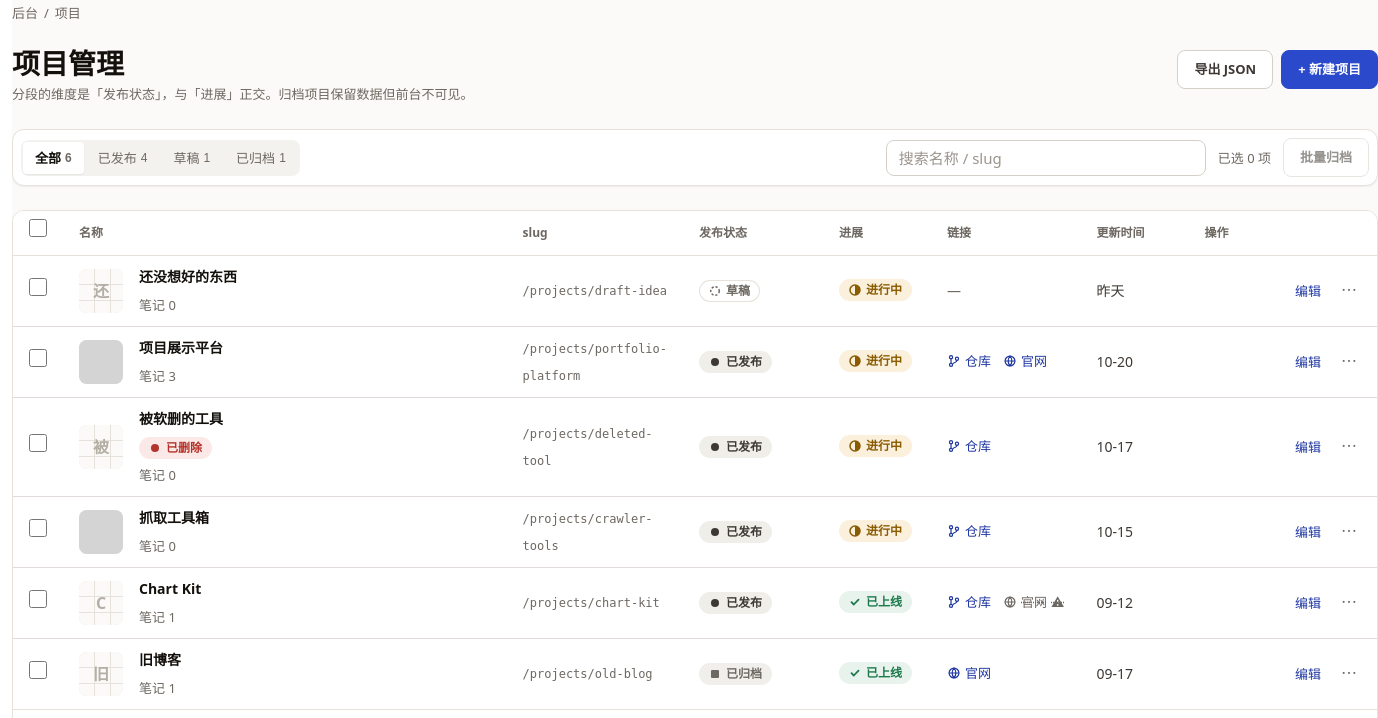
Test: ProjectListView › 删除需二次确认：取消不删，确认后软删除
This screenshot has width=1378, height=718.
Expected: the row that starts with "项目展示平台" is shown, [13, 326, 1377, 397]
Click the button named "更多操作". click: (1349, 362)
box: [1337, 346, 1361, 378]
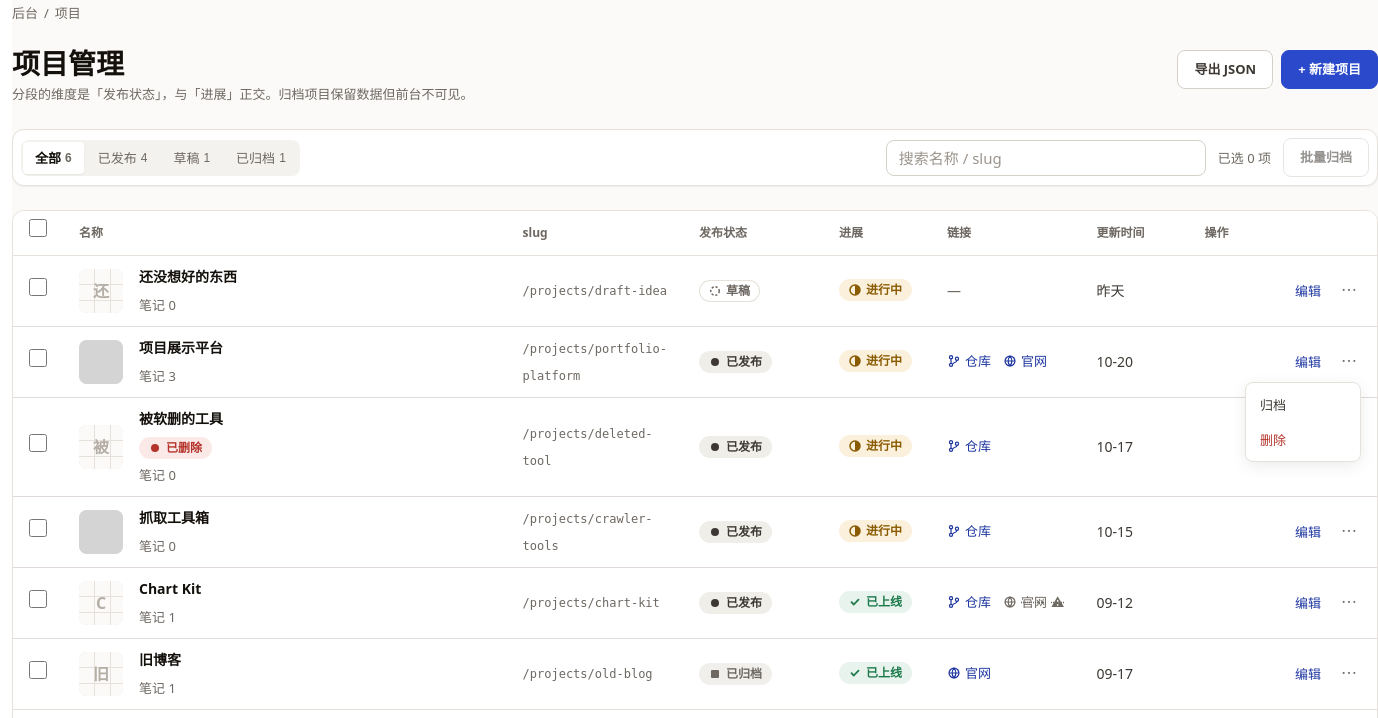
Expected: the row that starts with "项目展示平台" is shown, [13, 326, 1377, 397]
Click the menu item "删除". click: (1303, 439)
box: [1250, 422, 1356, 456]
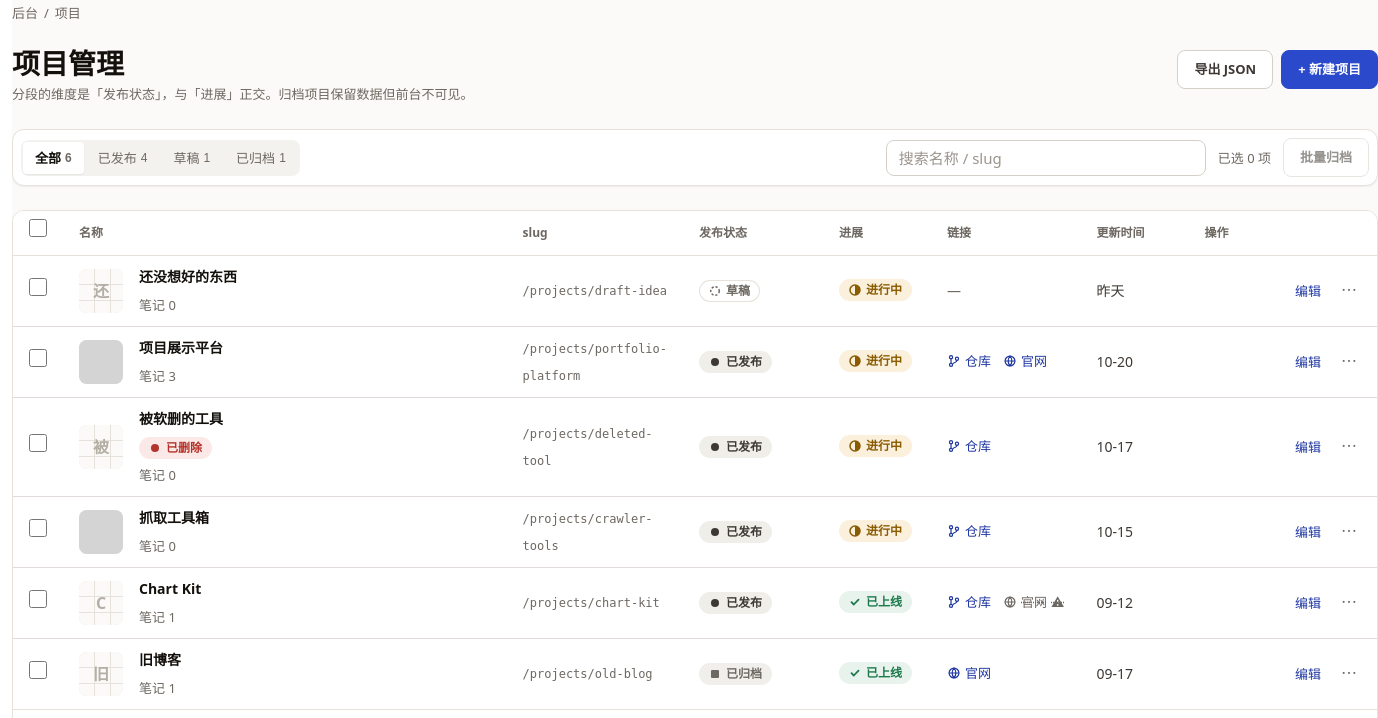
Expected: the row that starts with "项目展示平台" is shown, [13, 326, 1377, 397]
Click the button named "更多操作". click: (1349, 362)
box: [1337, 346, 1361, 378]
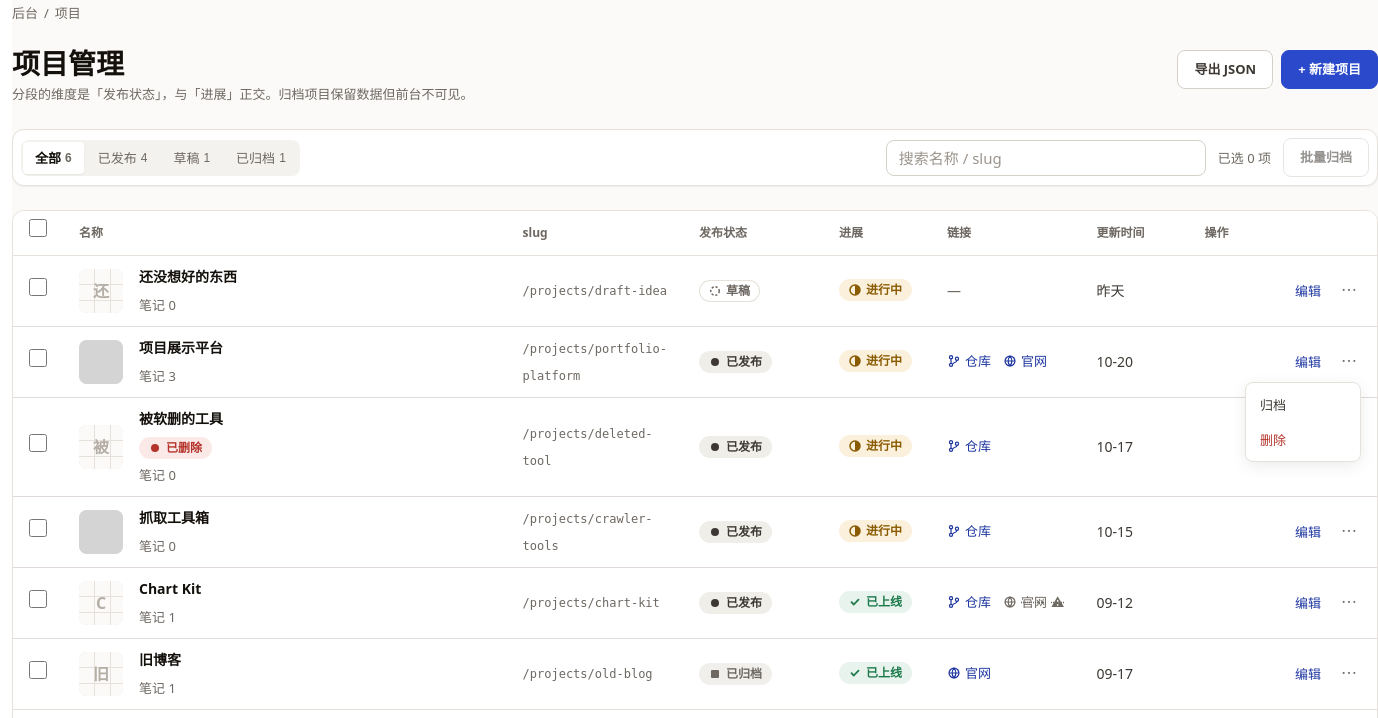
Expected: the row that starts with "项目展示平台" is shown, [13, 326, 1377, 397]
Click the menu item "删除". click: (1303, 439)
box: [1250, 422, 1356, 456]
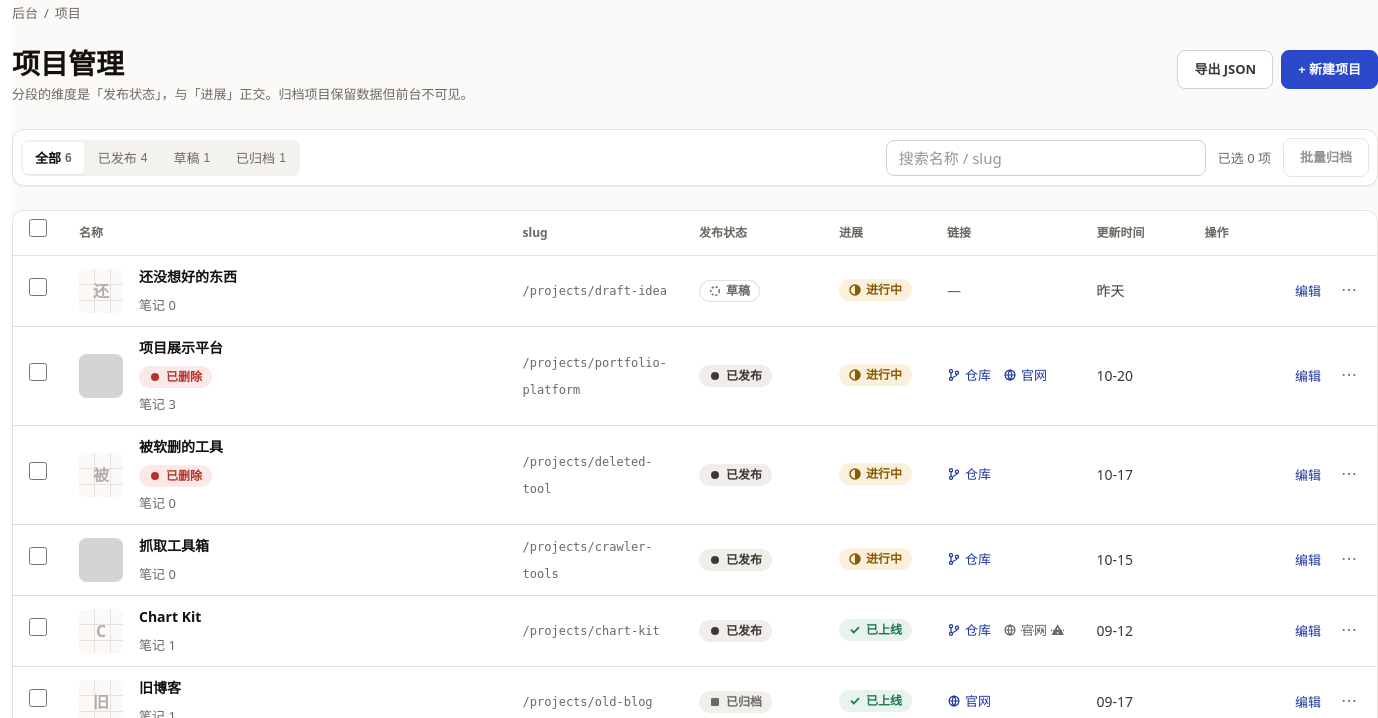
Expected: the row that starts with "项目展示平台" is shown, [13, 326, 1377, 425]
Expected: the text "已删除" below "项目展示平台" is shown, [166, 368, 202, 384]
Click the button named "更多操作". click: (1349, 376)
box: [1337, 360, 1361, 392]
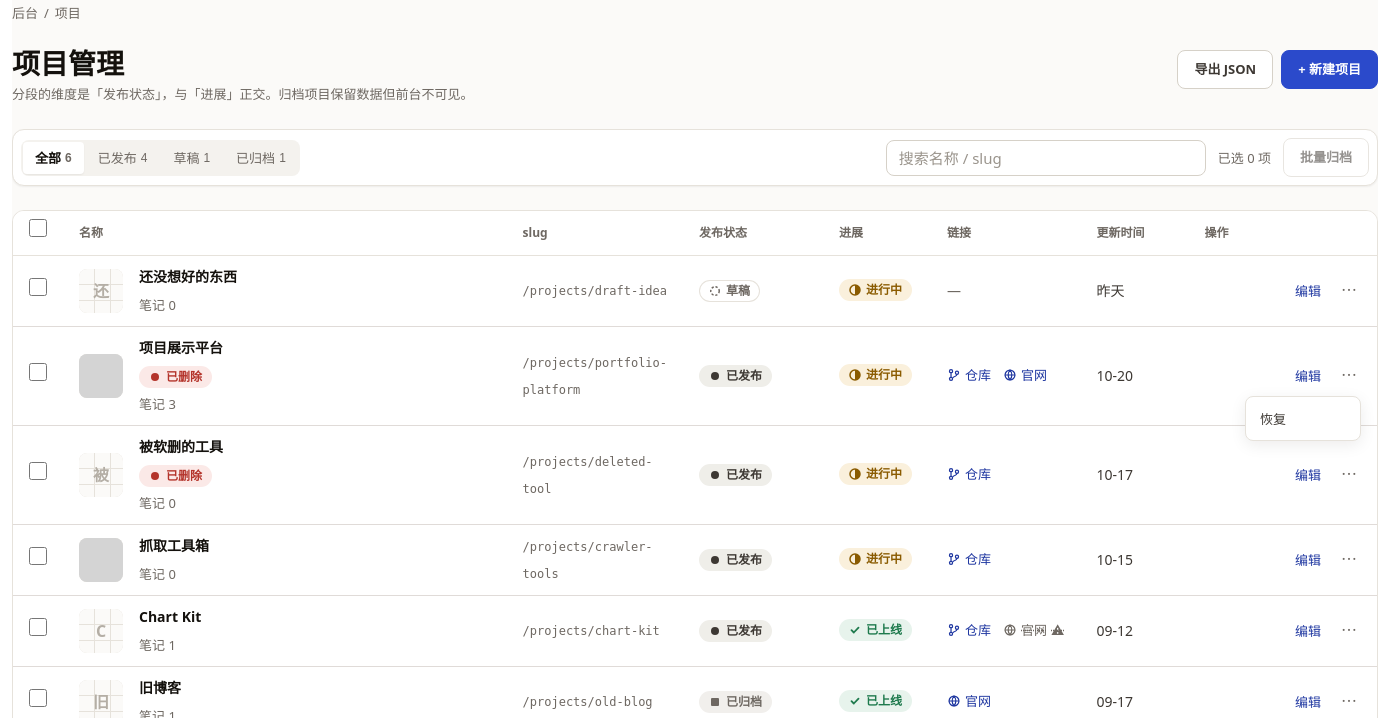
Expected: the menu item "恢复" is shown, [1250, 400, 1356, 436]
